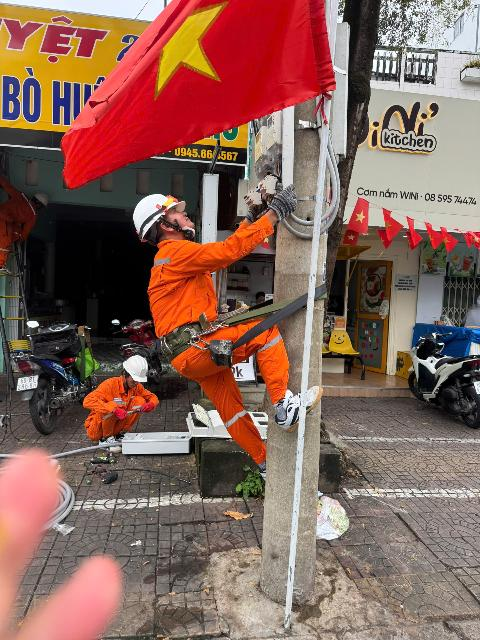gloves: (258, 179, 309, 219), (236, 191, 267, 224), (137, 395, 159, 415), (111, 404, 133, 422)
harness: (158, 303, 295, 359)
helmet: (120, 194, 191, 244), (120, 350, 157, 385)
shoes: (261, 382, 322, 436), (256, 455, 284, 483), (98, 432, 125, 455), (115, 431, 132, 445)
